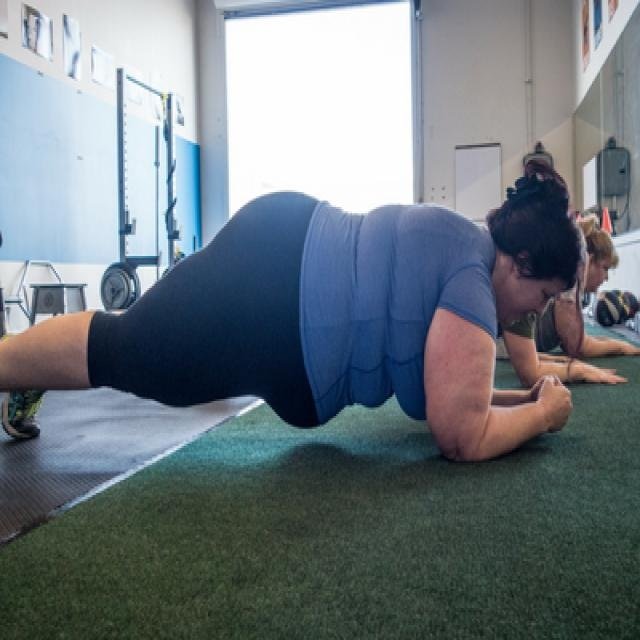plank: (0, 144, 598, 481)
